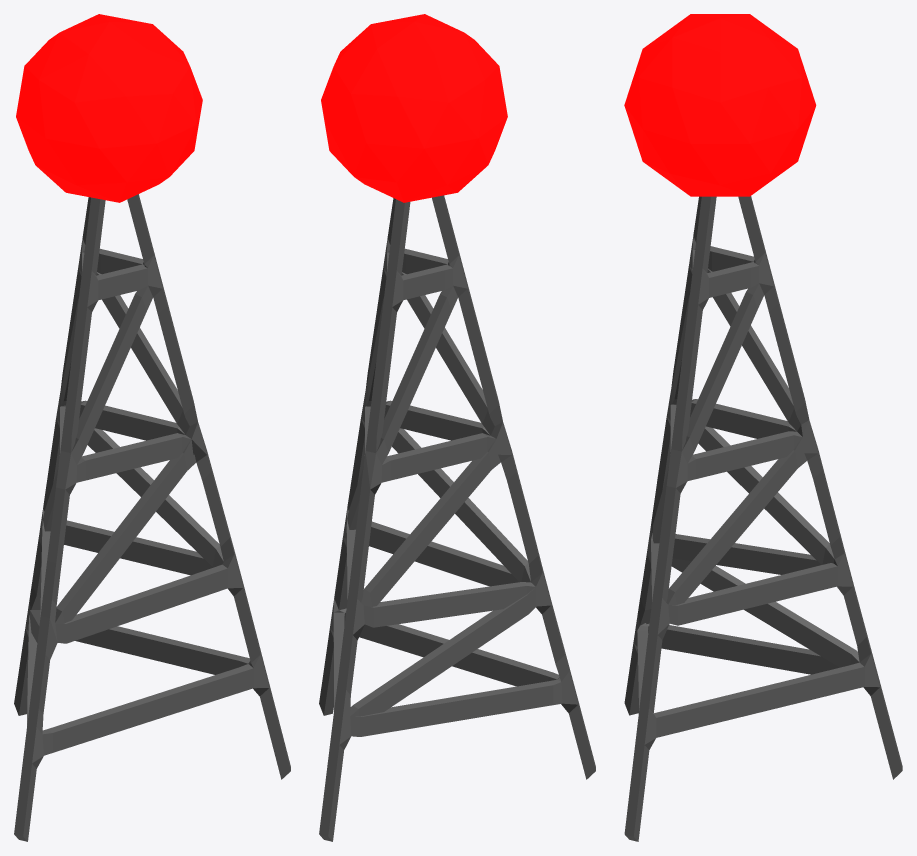
File: SensorTower2.fbx
The picture shows the model from 3 angles, left to right: view 1: azimuth 30°, elevation 25°; view 2: azimuth 150°, elevation 25°; view 3: azimuth 270°, elevation 25°; orthographic projection.
Parts seen in each view (by area): view 1: Cone; view 2: Cone; view 3: Cone.
Boxes of the visible parts, x1,y1,x2,y2 form: Cone: (14,14,290,841); Cone: (319,14,595,841); Cone: (624,14,902,841).
Size of the model in its own units: 87.1 by 227 by 75.48.
